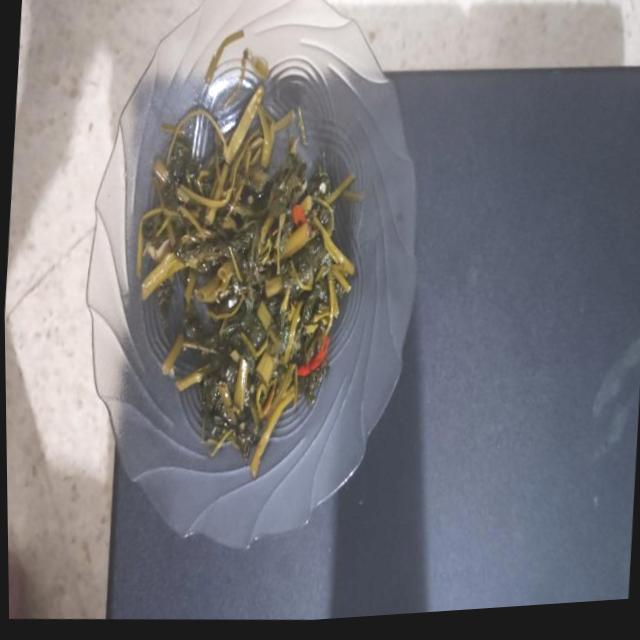tumis_kangkung: (142, 85, 360, 478)
